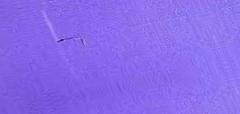snag: (55, 32, 89, 51)
